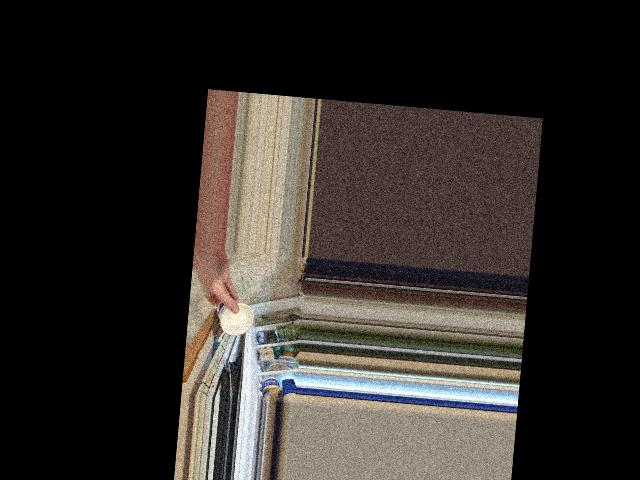cotage: (211, 297, 255, 339)
